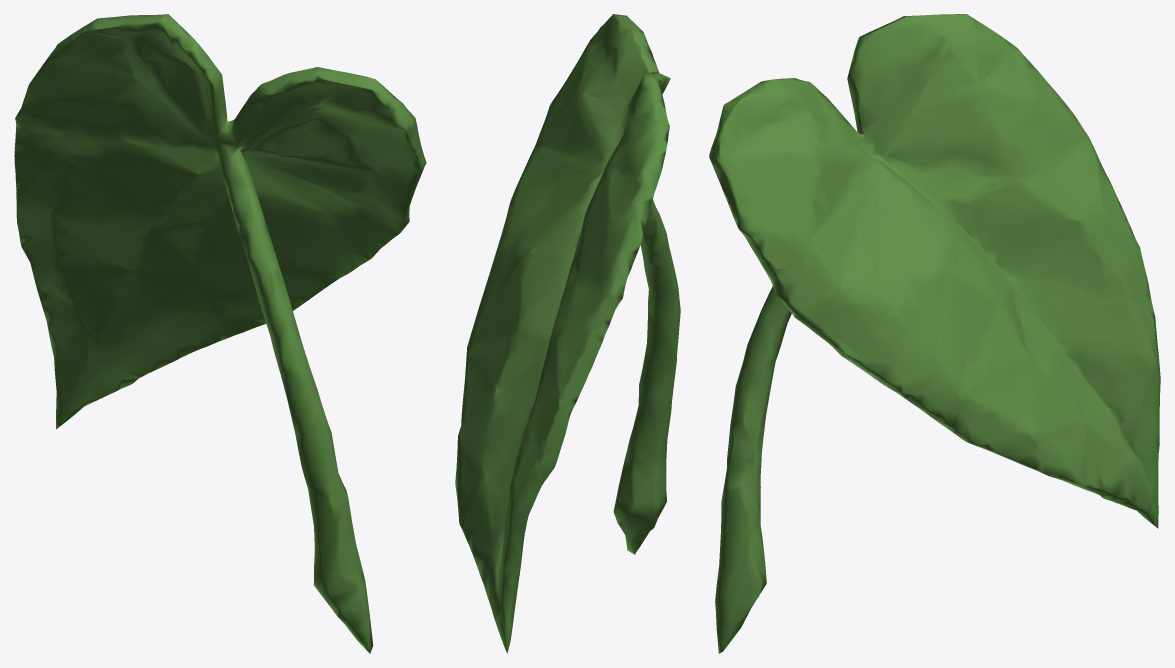
The model's file is sc_leaf_mature.glb.
The picture shows the model from 3 angles, left to right: view 1: azimuth 30°, elevation 25°; view 2: azimuth 150°, elevation 25°; view 3: azimuth 270°, elevation 25°; orthographic projection. The views are drawn at different scales.
Visible parts, largest first — view 1: tripo_node_7e5b2c7c-99b4-4152-9756-b67bee59fccd; view 2: tripo_node_7e5b2c7c-99b4-4152-9756-b67bee59fccd; view 3: tripo_node_7e5b2c7c-99b4-4152-9756-b67bee59fccd.
Part boxes in pixels (left/top/right/bottom): tripo_node_7e5b2c7c-99b4-4152-9756-b67bee59fccd: left=14, top=14, right=426, bottom=653; tripo_node_7e5b2c7c-99b4-4152-9756-b67bee59fccd: left=455, top=14, right=680, bottom=653; tripo_node_7e5b2c7c-99b4-4152-9756-b67bee59fccd: left=709, top=14, right=1160, bottom=653.
Size of the model in its own units: 0.444 by 1 by 0.698.
Materials: 1 (1 with a texture image).
